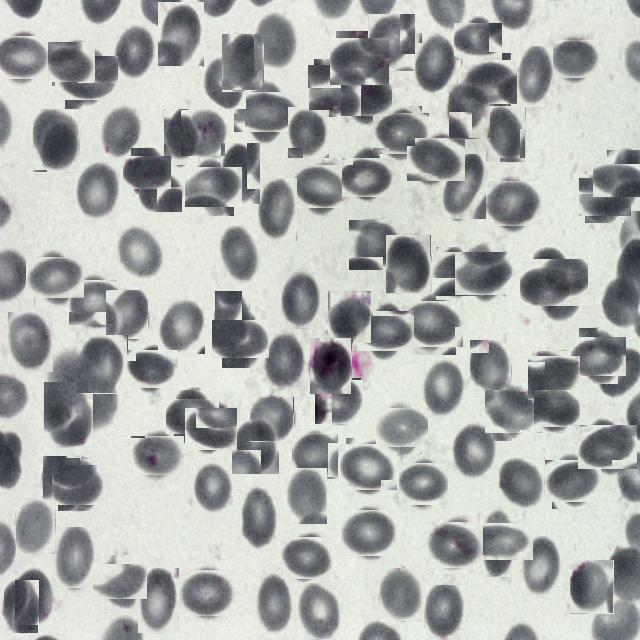red blood cell: (525, 254, 583, 312), (44, 382, 93, 446), (76, 335, 128, 394), (406, 296, 460, 351), (332, 34, 387, 88), (33, 109, 80, 172), (443, 153, 487, 220), (158, 2, 204, 66), (60, 51, 114, 105), (472, 514, 525, 568), (240, 86, 293, 139), (428, 518, 481, 571), (52, 527, 98, 588), (8, 312, 54, 373), (368, 14, 416, 72), (138, 568, 180, 634), (414, 33, 458, 95), (342, 441, 394, 493), (182, 567, 234, 619), (582, 422, 634, 474), (344, 507, 396, 559), (486, 178, 538, 230), (311, 62, 363, 114), (232, 419, 280, 475), (117, 225, 164, 282), (386, 235, 431, 294), (411, 134, 462, 186), (158, 298, 205, 354), (75, 162, 120, 220), (458, 248, 509, 299), (72, 276, 122, 328), (451, 422, 496, 479), (258, 178, 298, 242), (254, 13, 298, 71), (348, 220, 399, 270), (488, 386, 539, 436), (464, 56, 514, 107), (423, 359, 466, 418), (298, 162, 348, 212), (548, 456, 598, 506), (30, 253, 80, 303), (522, 536, 562, 598), (221, 143, 261, 205), (282, 468, 326, 524), (362, 306, 411, 356), (376, 109, 426, 158), (499, 457, 545, 510), (203, 53, 246, 109), (298, 583, 341, 639), (190, 162, 238, 212), (0, 33, 47, 84), (470, 340, 512, 397), (262, 332, 304, 389), (222, 34, 264, 91), (310, 338, 352, 395), (570, 560, 614, 614), (238, 486, 276, 548), (100, 104, 142, 160), (326, 291, 371, 343), (281, 272, 322, 329), (449, 84, 491, 139), (284, 534, 332, 582), (434, 250, 482, 298), (574, 332, 622, 380), (530, 354, 578, 402), (217, 315, 265, 363), (516, 44, 553, 106), (486, 106, 526, 163), (220, 226, 260, 283), (380, 568, 422, 622), (114, 24, 155, 79), (255, 573, 293, 632), (188, 405, 235, 452), (16, 500, 56, 555), (288, 107, 330, 159), (193, 462, 234, 515), (15, 568, 53, 625), (345, 154, 391, 201), (127, 346, 174, 392), (315, 379, 362, 425), (426, 585, 465, 640), (401, 461, 447, 507), (582, 174, 628, 220), (134, 432, 180, 478), (379, 405, 425, 451), (55, 462, 101, 508), (164, 109, 201, 166), (292, 433, 338, 478), (551, 36, 596, 82), (106, 290, 148, 339), (344, 74, 388, 120), (181, 110, 225, 156), (250, 397, 294, 442), (215, 291, 250, 347), (170, 394, 214, 438), (98, 560, 142, 604), (50, 40, 94, 84), (4, 580, 39, 634), (600, 157, 640, 204), (456, 21, 499, 63), (139, 172, 183, 213), (43, 456, 81, 503), (536, 388, 578, 430), (127, 152, 168, 193)
